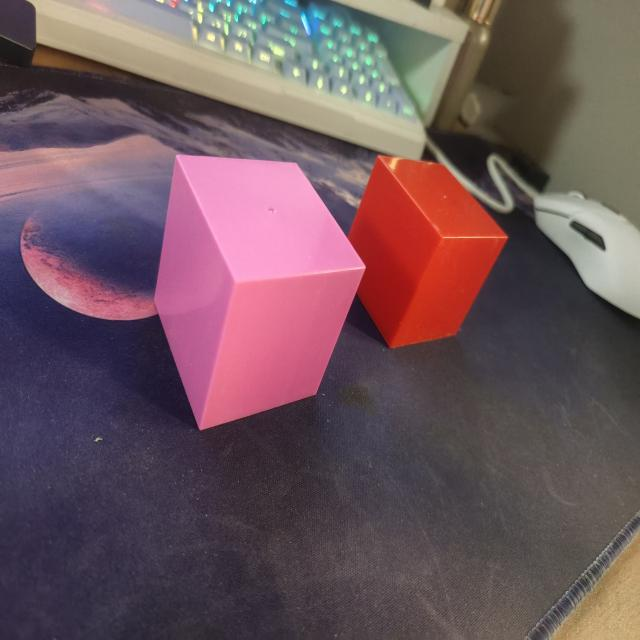pink: (146, 144, 368, 432)
red: (371, 145, 516, 354)
